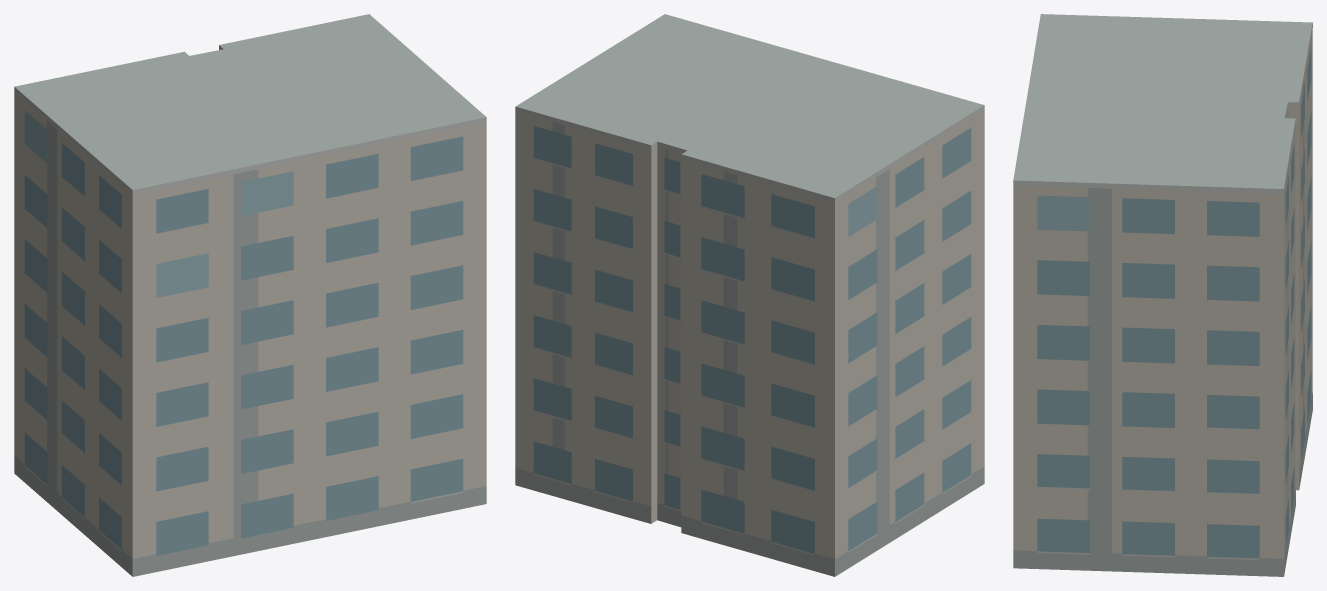
Rendered from survey-upis-32766809.glb.
The picture shows the model from 3 angles, left to right: view 1: azimuth 30°, elevation 25°; view 2: azimuth 150°, elevation 25°; view 3: azimuth 270°, elevation 25°; orthographic projection. The views are drawn at different scales.
Visible parts, largest first — view 1: survey-upis-32766809.tmp; view 2: survey-upis-32766809.tmp; view 3: survey-upis-32766809.tmp.
Part boxes in pixels (x1,y1,x2,y2): survey-upis-32766809.tmp: (14,14,486,576); survey-upis-32766809.tmp: (515,14,984,576); survey-upis-32766809.tmp: (1013,14,1312,576).
Size of the model in its own units: 18.02 by 18.6 by 13.03.
